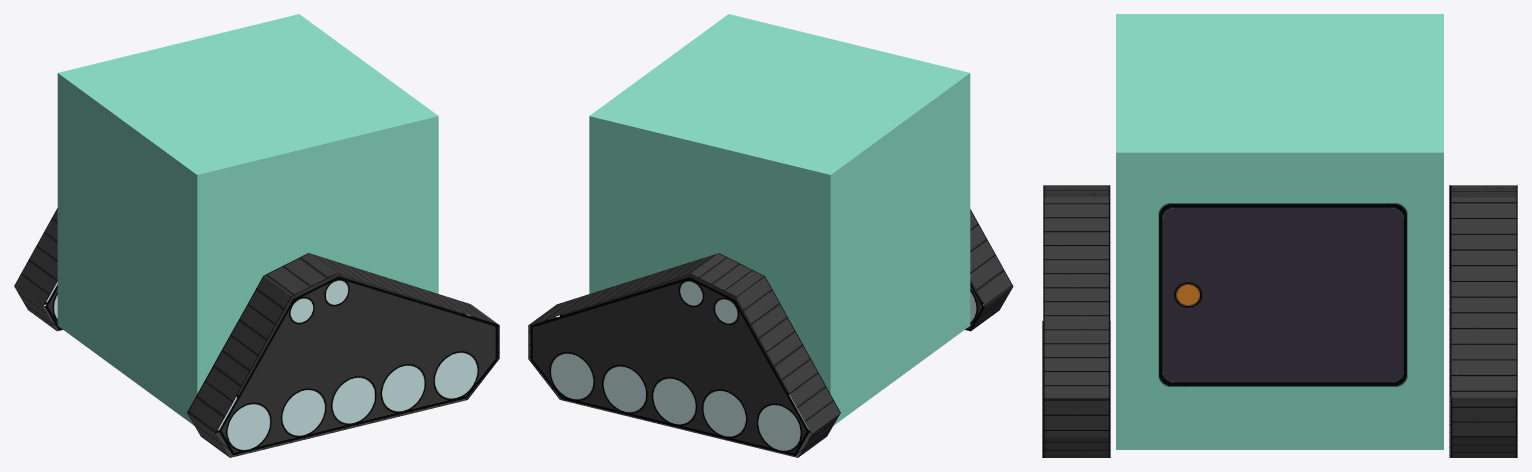
File: corps.FBX
3 renders of one model, left to right at view 1: azimuth 30°, elevation 25°; view 2: azimuth 150°, elevation 25°; view 3: azimuth 270°, elevation 25°, orthographic. The views are drawn at different scales.
Parts seen in each view (by area): view 1: Corps; view 2: Corps; view 3: Corps.
Boxes of the visible parts, bbox=[...] form: Corps: bbox=[14, 14, 499, 457]; Corps: bbox=[528, 14, 1013, 457]; Corps: bbox=[1042, 14, 1517, 457].
Bounding box in the file's own units: 1.17 × 1.45 × 1.03.
2 materials, 2 textured.
